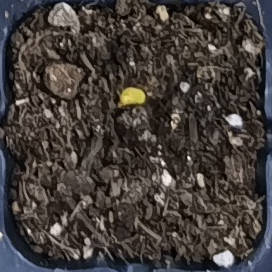pepper seed: (45, 33, 193, 141)
